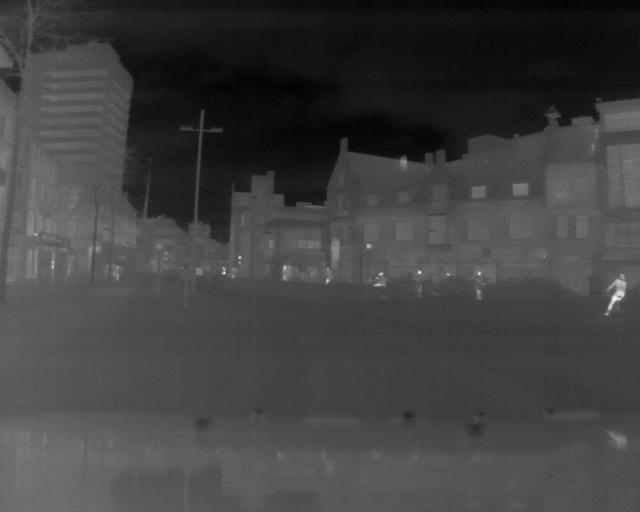person: (603, 268, 631, 323), (471, 269, 488, 303)
